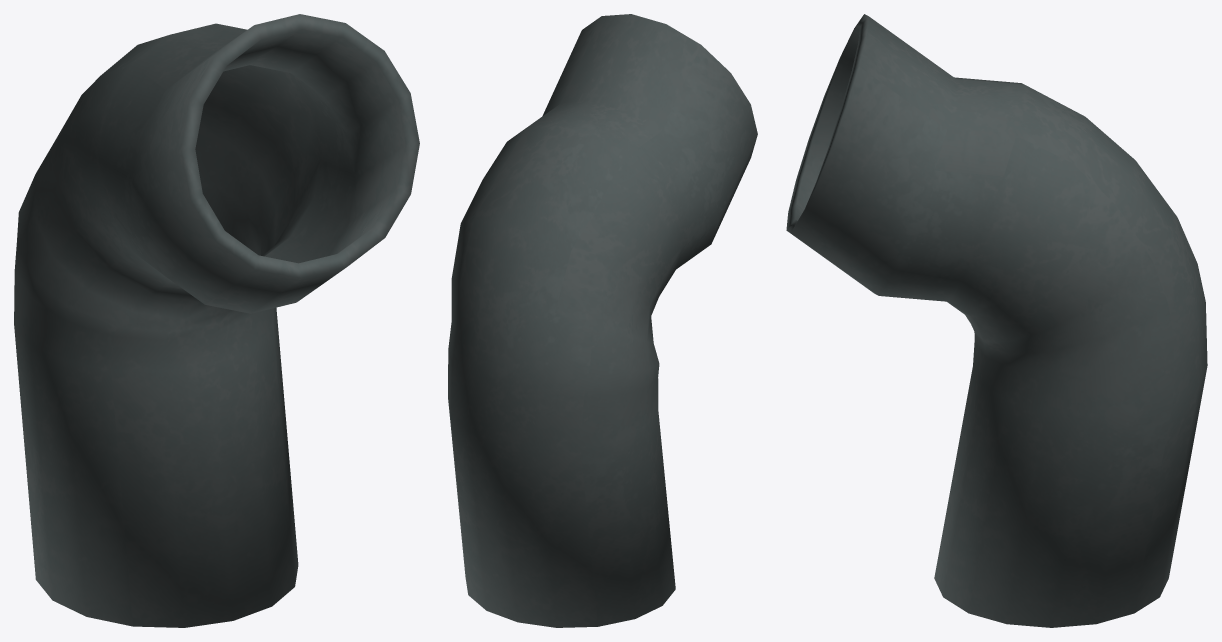
Rendered from mdlSteamPipe.fbx.
The picture shows the model from 3 angles, left to right: view 1: azimuth 30°, elevation 25°; view 2: azimuth 150°, elevation 25°; view 3: azimuth 270°, elevation 25°; orthographic projection. The views are drawn at different scales.
Visible parts, largest first — view 1: Cylinder.003; view 2: Cylinder.003; view 3: Cylinder.003.
Part boxes in pixels (x1,y1,x2,y2): Cylinder.003: (14, 14, 419, 627); Cylinder.003: (448, 14, 757, 627); Cylinder.003: (786, 14, 1207, 627).
Size of the model in its own units: 2.14 by 5.23 by 3.59.
